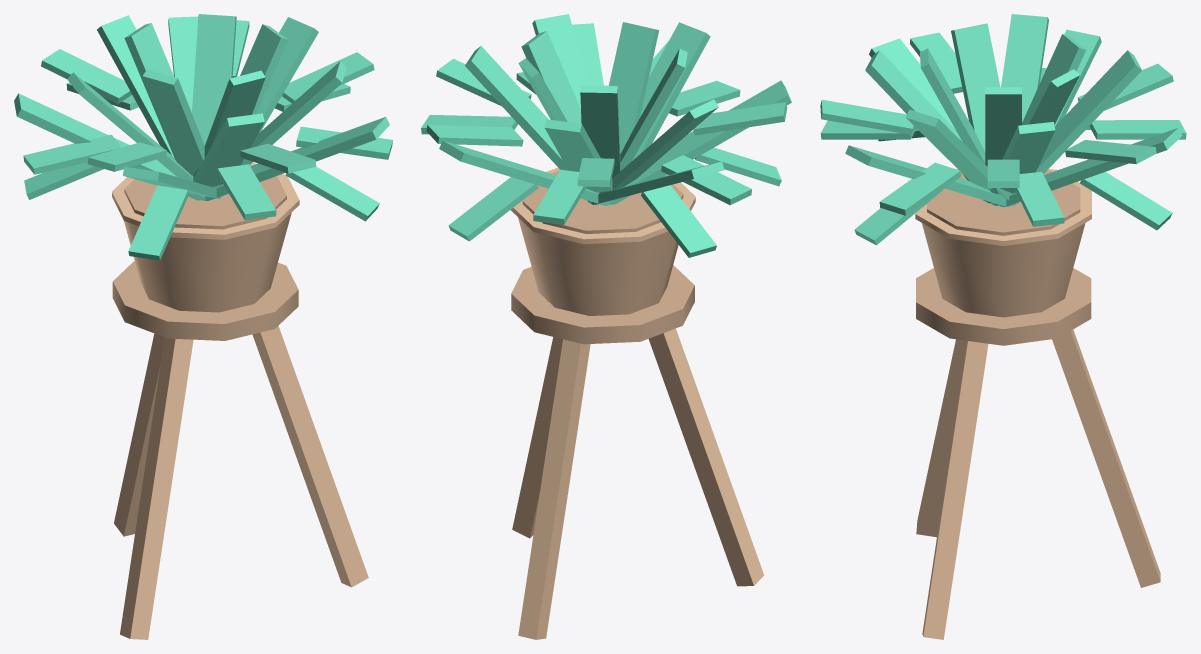
The model's file is plantFernStand.glb.
The picture shows the model from 3 angles, left to right: view 1: azimuth 30°, elevation 25°; view 2: azimuth 150°, elevation 25°; view 3: azimuth 270°, elevation 25°; orthographic projection.
Parts seen in each view (by area): view 1: plantFernStand; view 2: plantFernStand; view 3: plantFernStand.
Part boxes in pixels (x1,y1,x2,y2): plantFernStand: (14,14,392,639); plantFernStand: (421,14,791,639); plantFernStand: (820,14,1186,639).
Size of the model in its own units: 0.3981 by 0.6364 by 0.3979.
